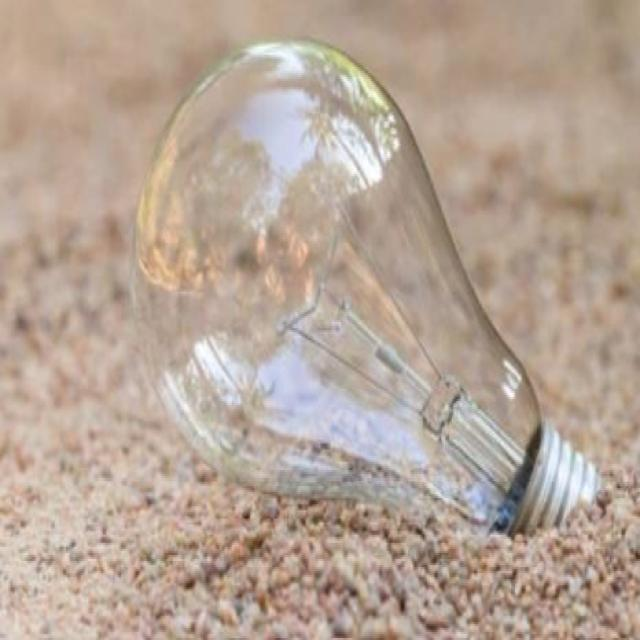electronic: (129, 34, 603, 539)
